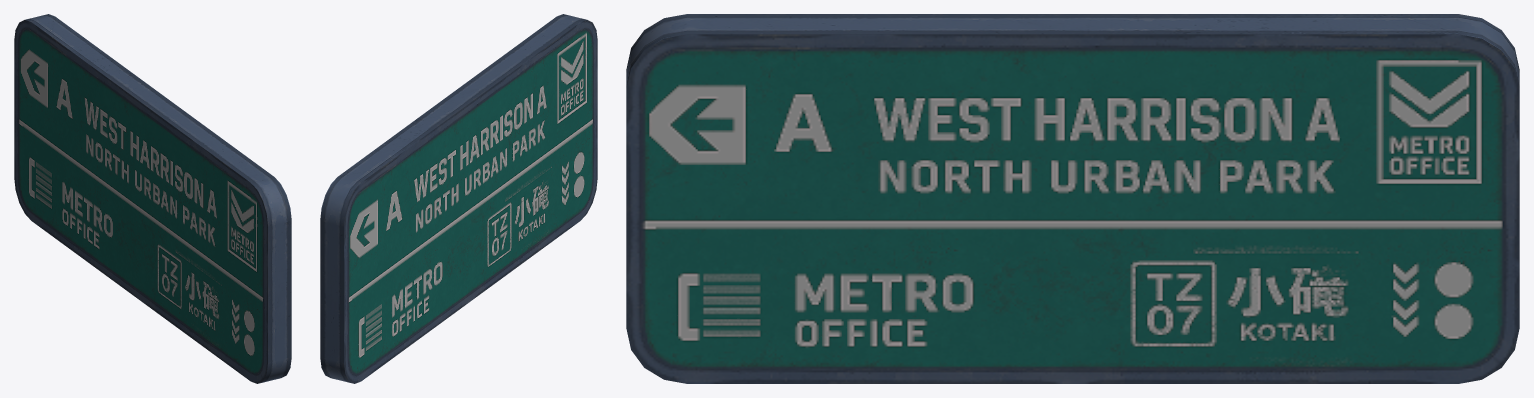
Rendered from CP_Metro_Signage_03.fbx.
3 renders of one model, left to right at view 1: azimuth 30°, elevation 25°; view 2: azimuth 150°, elevation 25°; view 3: azimuth 270°, elevation 25°, orthographic. The views are drawn at different scales.
Parts seen in each view (by area): view 1: CP_Metro_Signage_03; view 2: CP_Metro_Signage_03; view 3: CP_Metro_Signage_03.
Part boxes in pixels (<box>): CP_Metro_Signage_03: <box>14,14,291,383</box>; CP_Metro_Signage_03: <box>320,14,597,383</box>; CP_Metro_Signage_03: <box>626,14,1519,383</box>.
Bounding box in the file's own units: 11.03 × 88.33 × 204.
